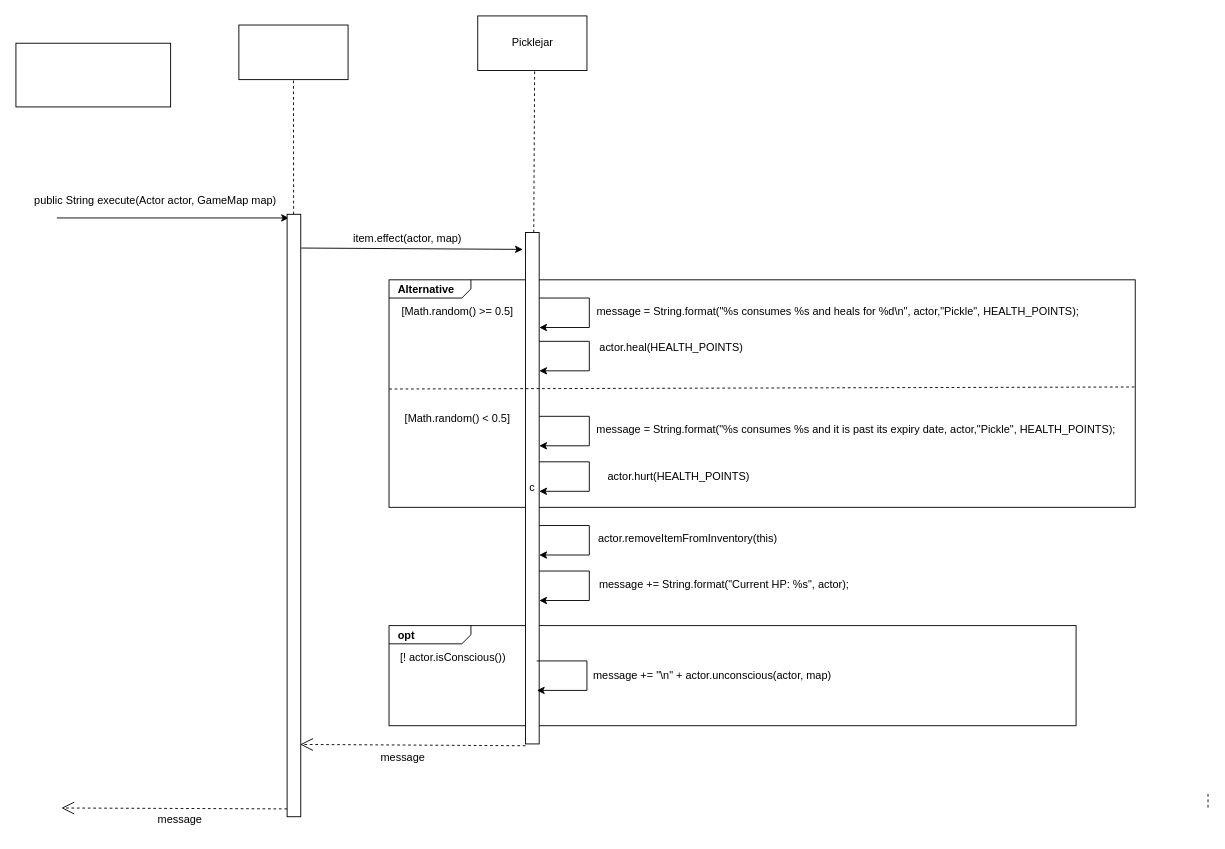
The diagram is 1225 pixels wide and 849 high, and some of its shapes have lost their labels. The shapes that lost their labels are listed below. From the top down, each one's centre as x and y in pixels, then its label:
At [293,52]: "ConsumeAction".
At [93,74]: "This sequence diagram is specific to the scenario where player consume a pickle".
